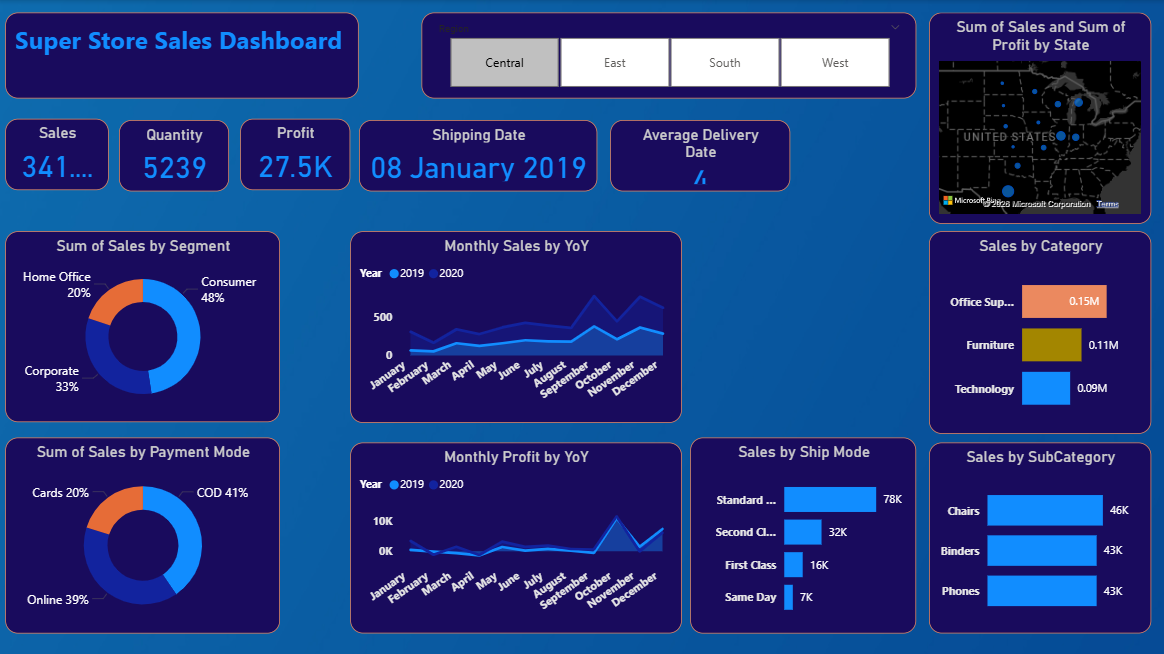

The dashboard page shown, as its layout file describes it:
{"tool":"powerbi","page":{"name":"Page 1","canvas":[1280,720],"ordinal":0},"visuals":[{"type":"clusteredBarChart","title":"Sales by Category","fields":{"Category":["SuperStore_Sales_Dataset.Category"],"Y":["Sum(SuperStore_Sales_Dataset.Sales)"]},"box":[1020.9,253.9,244.3,222.3],"z":0},{"type":"clusteredBarChart","title":"Sales by SubCategory","fields":{"Y":["Sum(SuperStore_Sales_Dataset.Sales)"],"Category":["SuperStore_Sales_Dataset.Sub-Category"]},"box":[1020.9,485.8,244.3,209.9],"z":1000},{"type":"clusteredBarChart","title":"Sales by Ship Mode","fields":{"Y":["Sum(SuperStore_Sales_Dataset.Sales)"],"Category":["SuperStore_Sales_Dataset.Ship Mode"]},"box":[758.8,480.3,248.4,215.4],"z":2000},{"type":"stackedAreaChart","title":"Monthly Sales by YoY","fields":{"Series":["SuperStore_Sales_Dataset.Order Date.Variation.Date Hierarchy.Year"],"Category":["SuperStore_Sales_Dataset.Ship Date.Variation.Date Hierarchy.Month"],"Y":["Sum(SuperStore_Sales_Dataset.Quantity)"]},"box":[385.2,253.5,364.2,210.1],"z":3000},{"type":"stackedAreaChart","title":"Monthly Profit by YoY","fields":{"Series":["SuperStore_Sales_Dataset.Order Date.Variation.Date Hierarchy.Year"],"Category":["SuperStore_Sales_Dataset.Order Date.Variation.Date Hierarchy.Month","SuperStore_Sales_Dataset.Order Date.Variation.Date Hierarchy.Day"],"Y":["Sum(SuperStore_Sales_Dataset.Profit)"]},"box":[385.6,485.8,363.6,209.9],"z":4000},{"type":"map","fields":{"Category":["SuperStore_Sales_Dataset.State"],"Size":["Sum(SuperStore_Sales_Dataset.Sales)"]},"box":[1020.9,13.7,244.3,231.9],"z":5000},{"type":"donutChart","fields":{"Category":["SuperStore_Sales_Dataset.Segment"],"Y":["Sum(SuperStore_Sales_Dataset.Sales)"]},"box":[6.9,253.9,301.9,209.9],"z":6000},{"type":"donutChart","fields":{"Y":["Sum(SuperStore_Sales_Dataset.Sales)"],"Category":["SuperStore_Sales_Dataset.Payment Mode"]},"box":[6.9,480.3,301.9,215.4],"z":7000},{"type":"slicer","fields":{"Values":["SuperStore_Sales_Dataset.Region"]},"box":[463.8,13.7,543.4,94.7],"z":8000},{"type":"textbox","box":[6.9,13.7,388.3,94.7],"z":9000},{"type":"card","title":"Sales","fields":{"Values":["Sum(SuperStore_Sales_Dataset.Sales)"]},"box":[7,130.3,113.5,78.4],"z":10000},{"type":"card","title":"Quantity","fields":{"Values":["Sum(SuperStore_Sales_Dataset.Quantity)"]},"box":[131.7,131.7,120.5,78.4],"z":11000},{"type":"card","title":"Profit","fields":{"Values":["Sum(SuperStore_Sales_Dataset.Profit)"]},"box":[264.7,130.3,120.5,78.4],"z":12000},{"type":"card","title":"Shipping Date","fields":{"Values":["Min(SuperStore_Sales_Dataset.Ship Date)"]},"box":[395,131.7,261.9,78.4],"z":13000},{"type":"card","title":"Average Delivery Date","fields":{"Values":["Avg(SuperStore_Sales_Dataset.AvgDelivery)"]},"box":[671,131.7,197.5,78.4],"z":14000}]}

Visuals, with their boxes in screenshot pixels (x1, y1, x2, y2), scaled from the page's 1280x720 canvas onto the 1164x654 screenshot:
"Sales by Category" clusteredBarChart: (x1=928, y1=231, x2=1151, y2=433)
"Sales by SubCategory" clusteredBarChart: (x1=928, y1=441, x2=1151, y2=632)
"Sales by Ship Mode" clusteredBarChart: (x1=690, y1=436, x2=916, y2=632)
"Monthly Sales by YoY" stackedAreaChart: (x1=350, y1=230, x2=681, y2=421)
"Monthly Profit by YoY" stackedAreaChart: (x1=351, y1=441, x2=681, y2=632)
map - SuperStore_Sales_Dataset.State x Sum(SuperStore_Sales_Dataset.Sales): (x1=928, y1=12, x2=1151, y2=223)
donutChart - SuperStore_Sales_Dataset.Segment x Sum(SuperStore_Sales_Dataset.Sales): (x1=6, y1=231, x2=281, y2=421)
donutChart - Sum(SuperStore_Sales_Dataset.Sales) x SuperStore_Sales_Dataset.Payment Mode: (x1=6, y1=436, x2=281, y2=632)
slicer - SuperStore_Sales_Dataset.Region: (x1=422, y1=12, x2=916, y2=98)
textbox: (x1=6, y1=12, x2=359, y2=98)
"Sales" card: (x1=6, y1=118, x2=110, y2=190)
"Quantity" card: (x1=120, y1=120, x2=229, y2=191)
"Profit" card: (x1=241, y1=118, x2=350, y2=190)
"Shipping Date" card: (x1=359, y1=120, x2=597, y2=191)
"Average Delivery Date" card: (x1=610, y1=120, x2=790, y2=191)
